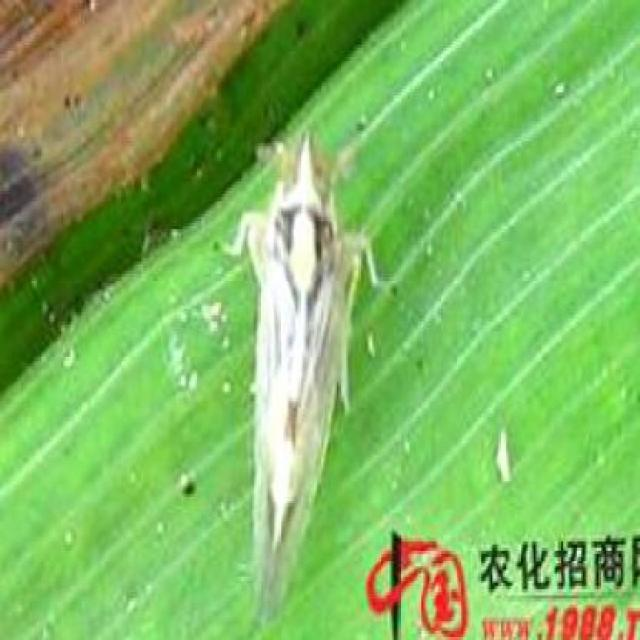brown-planthopper: (225, 139, 361, 635)
